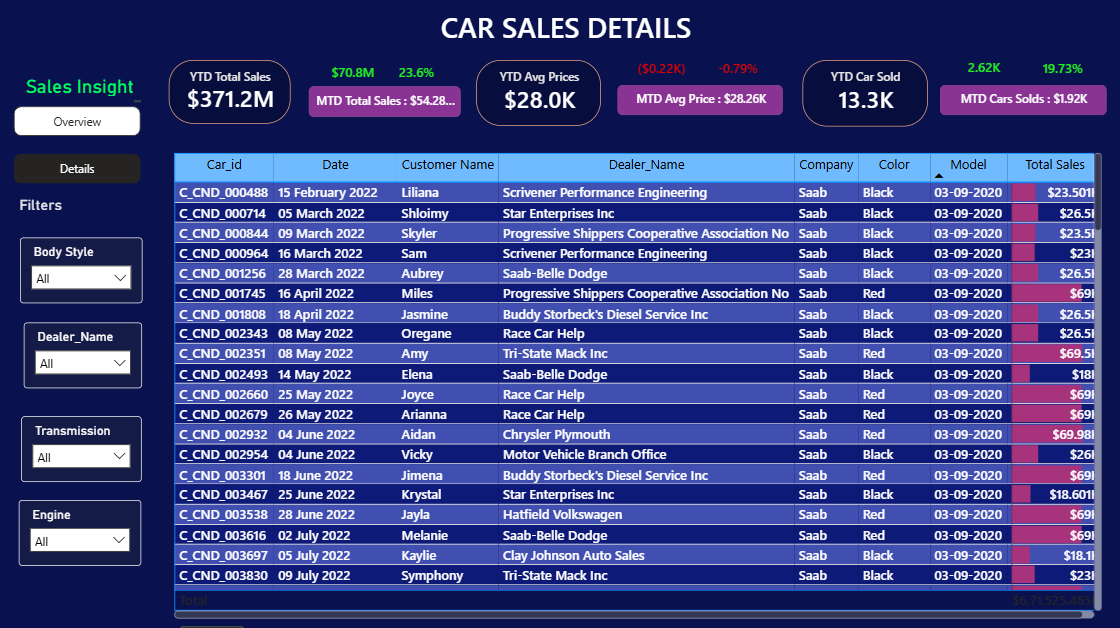

This screenshot's page, from the dashboard's own definition file:
{"tool":"powerbi","page":{"name":"Details","canvas":[1280,720],"ordinal":1},"visuals":[{"type":"card","title":"YTD Total Sales","fields":{"Values":["car_data.YTD Total Sales"]},"box":[192.7,68.2,139.1,72.7],"z":0},{"type":"card","fields":{"Values":["car_data.Sales Difference"]},"box":[352.3,67.4,101.2,34.9],"z":1000},{"type":"card","fields":{"Values":["car_data.YOY Sales Growth"]},"box":[425.5,67.3,100.9,35.5],"z":2000},{"type":"card","fields":{"Values":["car_data.MTD KPI"]},"box":[352.7,98.2,173.6,35.5],"z":3000},{"type":"card","title":"YTD Avg Prices","fields":{"Values":["car_data.YTD Avg Price"]},"box":[543.6,68.2,142.7,75.5],"z":4000},{"type":"card","fields":{"Values":["car_data.Avg Price Diff"]},"box":[705.5,62.7,100.9,34.5],"z":5000},{"type":"card","fields":{"Values":["car_data.YOY Avg Price Growth"]},"box":[792.7,62.7,100.9,35.5],"z":6000},{"type":"card","fields":{"Values":["car_data.MTD Avg Price KPI"]},"box":[705.5,97.3,189.1,34.5],"z":7000},{"type":"card","title":"YTD Car Sold","fields":{"Values":["car_data.YTD Car Solds"]},"box":[917.1,68.6,142.9,75.7],"z":8000},{"type":"card","fields":{"Values":["car_data.Cars Sold Diff"]},"box":[1074.5,61.8,100.9,35.5],"z":9000},{"type":"card","fields":{"Values":["car_data.YOY Car Sold Growth"]},"box":[1163.6,62.7,100.9,35.5],"z":10000},{"type":"card","fields":{"Values":["car_data.MTD Cars Sold KPI"]},"box":[1074.5,97.3,190,34.5],"z":11000},{"type":"textbox","title":"CAR SALES DETAILS","box":[498.6,8.6,390,40],"z":12000},{"type":"slicer","fields":{"Values":["car_data.Body Style"]},"box":[23.1,270.9,139.7,75.3],"z":13000},{"type":"slicer","fields":{"Values":["car_data.Dealer_Name"]},"box":[26.7,368,134.8,75.3],"z":14000},{"type":"slicer","fields":{"Values":["car_data.Transmission"]},"box":[24.3,476.1,137.3,75.3],"z":15000},{"type":"slicer","fields":{"Values":["car_data.Engine"]},"box":[21.9,570.9,139.7,75.3],"z":16000},{"type":"textbox","title":"Filters","box":[17,224.7,149.4,20.6],"z":17000},{"type":"tableEx","fields":{"Values":["car_data.Car_id","car_data.Date","car_data.Customer Name","car_data.Dealer_Name","car_data.Company","car_data.Color","car_data.Model","Sum(car_data.Price ($))"]},"box":[193.1,170.1,1071.3,541.7],"z":18000},{"type":"textbox","title":"Sales Insight","box":[24.3,85,142.1,36.4],"z":19000},{"type":"pageNavigator","box":[15.8,121.5,145.8,89.9],"z":20000}]}

Visuals, with their boxes in screenshot pixels (x1, y1, x2, y2), scaled from the page's 1280x720 canvas onto the 1120x628 screenshot:
"YTD Total Sales" card: box=[169, 59, 290, 123]
card - car_data.Sales Difference: box=[308, 59, 397, 89]
card - car_data.YOY Sales Growth: box=[372, 59, 461, 90]
card - car_data.MTD KPI: box=[309, 86, 461, 117]
"YTD Avg Prices" card: box=[476, 59, 601, 125]
card - car_data.Avg Price Diff: box=[617, 55, 706, 85]
card - car_data.YOY Avg Price Growth: box=[694, 55, 782, 86]
card - car_data.MTD Avg Price KPI: box=[617, 85, 783, 115]
"YTD Car Sold" card: box=[802, 60, 928, 126]
card - car_data.Cars Sold Diff: box=[940, 54, 1028, 85]
card - car_data.YOY Car Sold Growth: box=[1018, 55, 1106, 86]
card - car_data.MTD Cars Sold KPI: box=[940, 85, 1106, 115]
"CAR SALES DETAILS" textbox: box=[436, 8, 778, 42]
slicer - car_data.Body Style: box=[20, 236, 142, 302]
slicer - car_data.Dealer_Name: box=[23, 321, 141, 387]
slicer - car_data.Transmission: box=[21, 415, 141, 481]
slicer - car_data.Engine: box=[19, 498, 141, 564]
"Filters" textbox: box=[15, 196, 146, 214]
tableEx - car_data.Car_id x car_data.Date: box=[169, 148, 1106, 621]
"Sales Insight" textbox: box=[21, 74, 146, 106]
pageNavigator: box=[14, 106, 141, 184]
